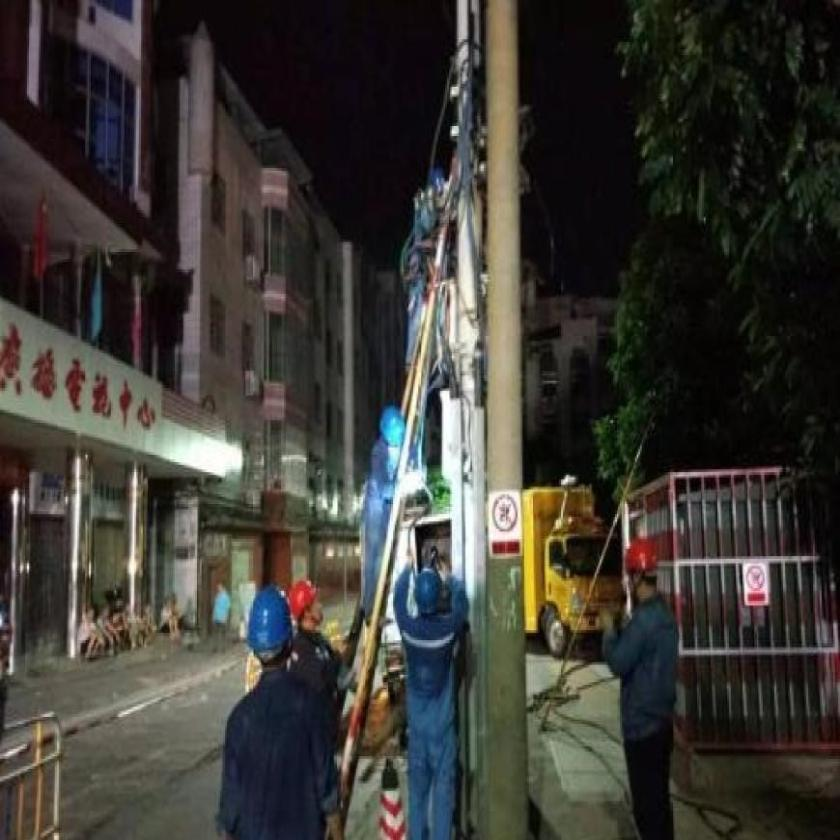Con_casco: (244, 585, 293, 669), (622, 537, 661, 606), (285, 581, 328, 637)
